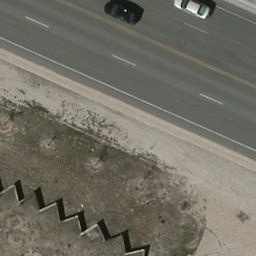car: (103, 0, 139, 23), (173, 0, 211, 20)
